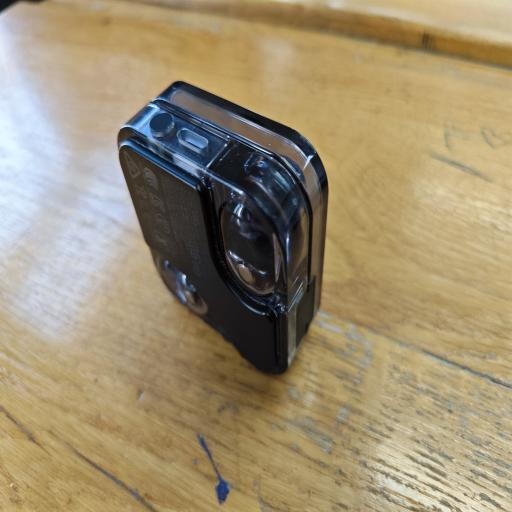CASTI: (112, 71, 330, 377)
